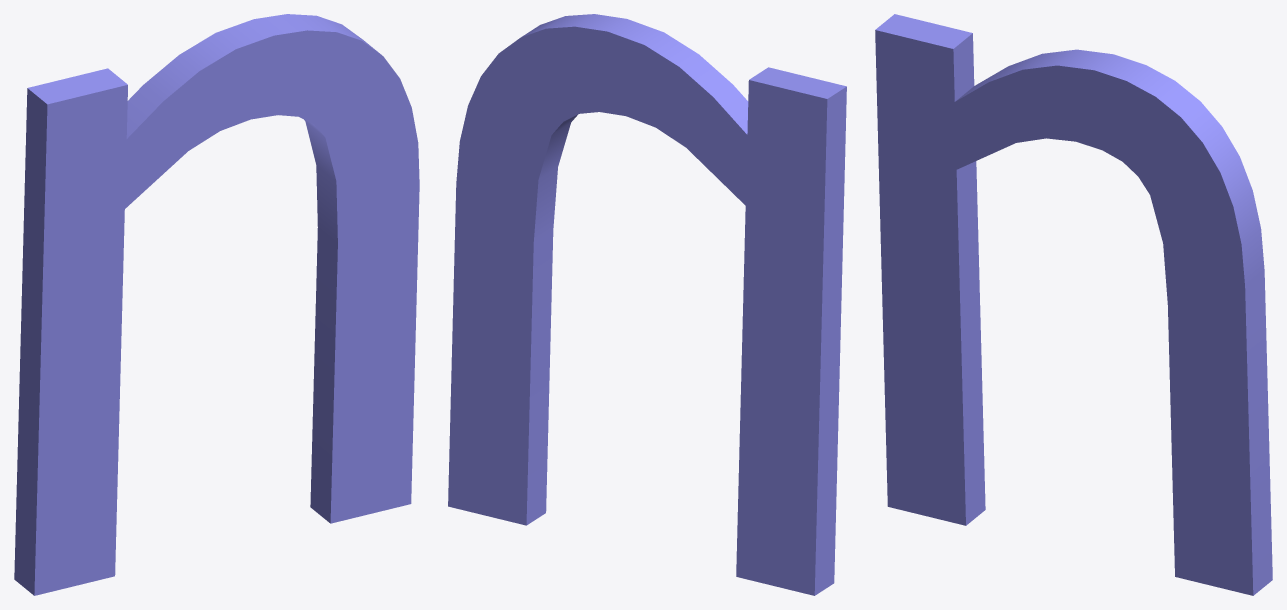
Rendered from original-13.obj.
3 views of the same model, side by side, from view 1: azimuth 30°, elevation 25°; view 2: azimuth 150°, elevation 25°; view 3: azimuth 330°, elevation 25° (orthographic). The views are drawn at different scales.
Parts seen in each view (by area): view 1: mesh17/mesh17-geometry#mesh17-geometry; view 2: mesh17/mesh17-geometry#mesh17-geometry; view 3: mesh17/mesh17-geometry#mesh17-geometry.
Boxes of the visible parts, bbox=[...] form: mesh17/mesh17-geometry#mesh17-geometry: bbox=[14, 14, 419, 595]; mesh17/mesh17-geometry#mesh17-geometry: bbox=[448, 14, 846, 595]; mesh17/mesh17-geometry#mesh17-geometry: bbox=[875, 14, 1272, 595].
Bounding box in the file's own units: 0.0276 × 0.0361 × 0.00425.
